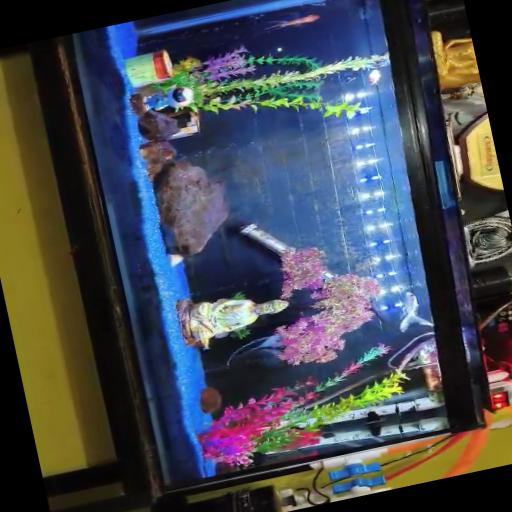Fish: (225, 335, 281, 367), (399, 292, 432, 332), (265, 15, 319, 30), (367, 70, 380, 85)
